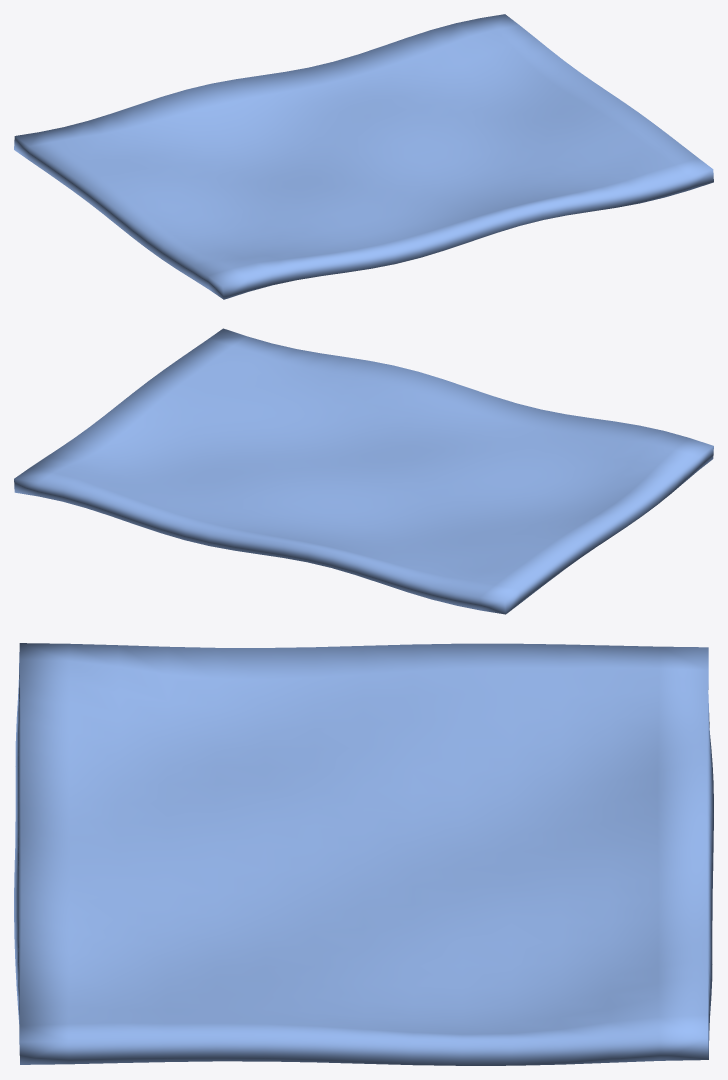
Rendered from sleep-blanket.glb.
The picture shows the model from 3 angles, top to bottom: view 1: azimuth 30°, elevation 25°; view 2: azimuth 150°, elevation 25°; view 3: azimuth 270°, elevation 25°; orthographic projection. The views are drawn at different scales.
Visible parts, largest first — view 1: sleep-blanket; view 2: sleep-blanket; view 3: sleep-blanket.
Boxes of the visible parts, x1,y1,x2,y2 form: sleep-blanket: (14, 14, 713, 299); sleep-blanket: (14, 328, 713, 614); sleep-blanket: (14, 643, 713, 1065).
Bounding box in the file's own units: 0.9602 × 0.0698 × 0.7114.
